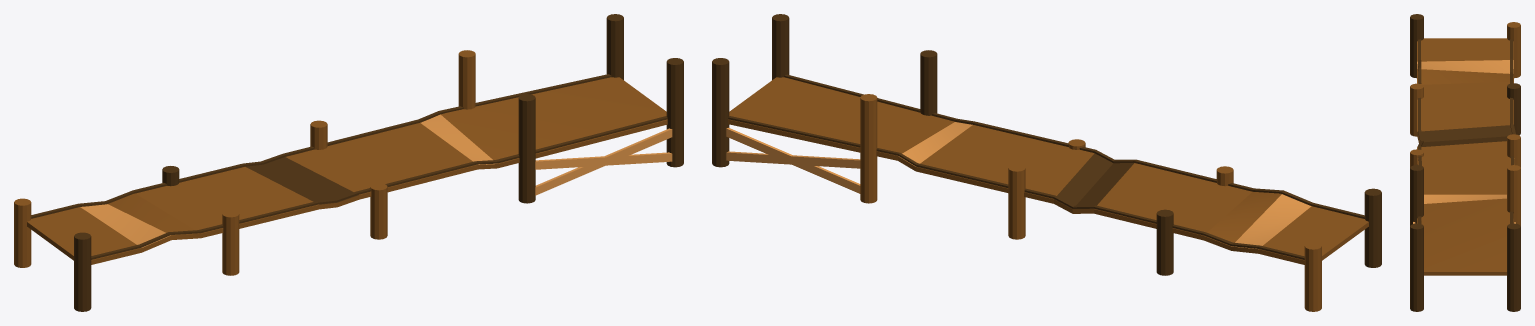
File: doc.FBX
The picture shows the model from 3 angles, left to right: view 1: azimuth 30°, elevation 25°; view 2: azimuth 150°, elevation 25°; view 3: azimuth 270°, elevation 25°; orthographic projection. The views are drawn at different scales.
Visible parts, largest first — view 1: Box016; view 2: Box016; view 3: Box016.
Boxes of the visible parts, x1,y1,x2,y2 form: Box016: [14, 14, 683, 311]; Box016: [712, 14, 1381, 311]; Box016: [1410, 14, 1520, 311].
Size of the model in its own units: 142 by 27.68 by 22.8.
Materials: 1 (1 with a texture image).
